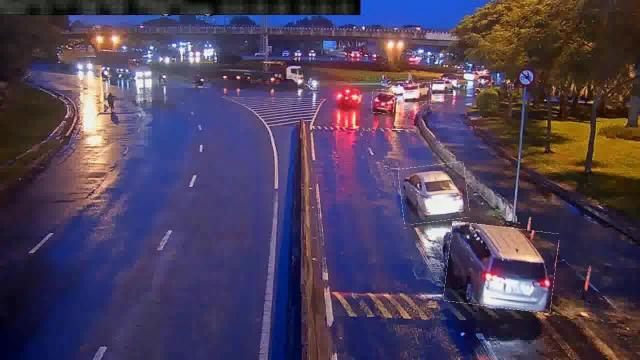Car: (446, 225, 556, 311), (399, 164, 468, 224), (404, 84, 432, 103), (372, 90, 394, 114), (432, 79, 454, 95)
